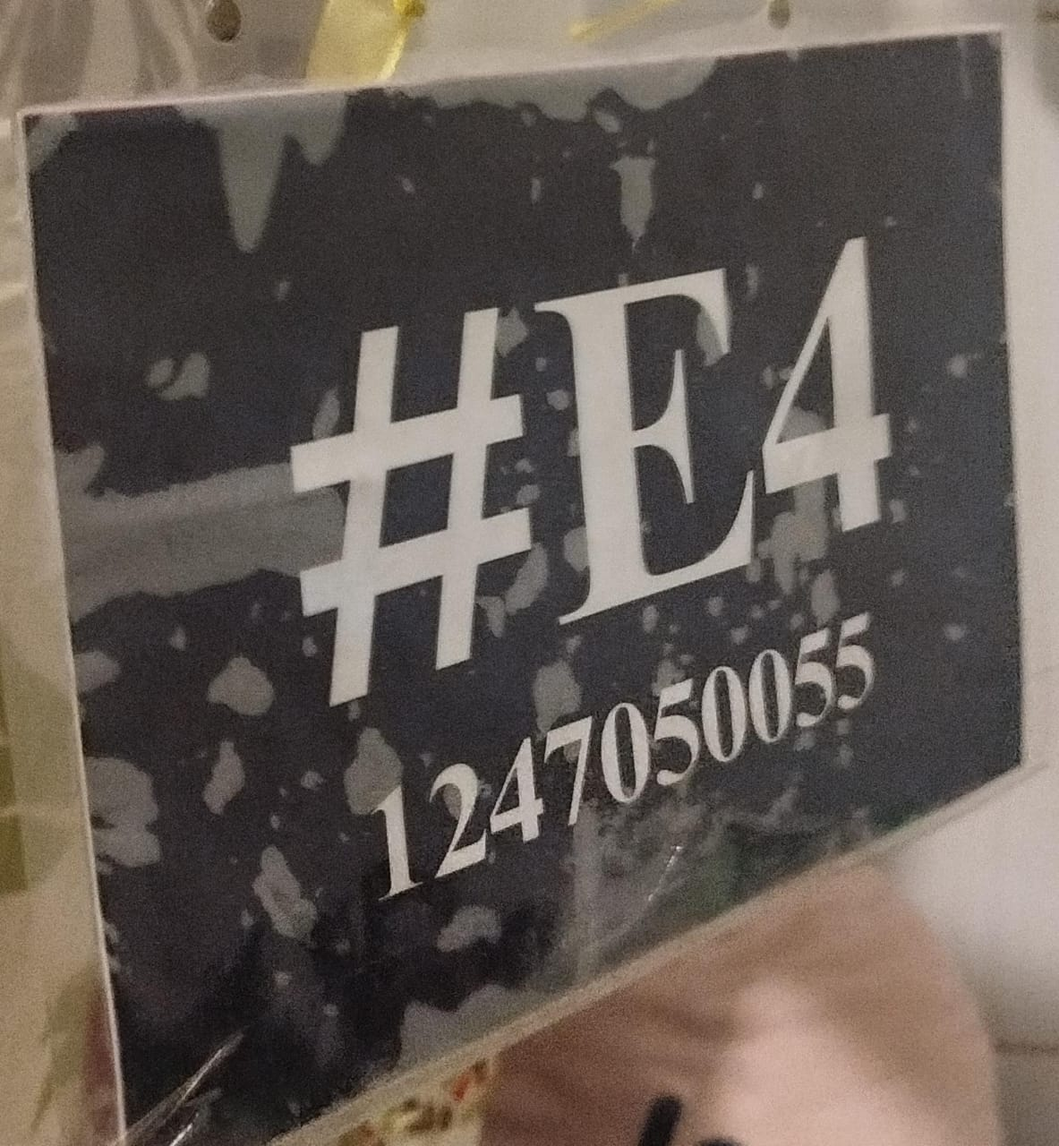kemeja_benar: (22, 112, 1012, 754)
